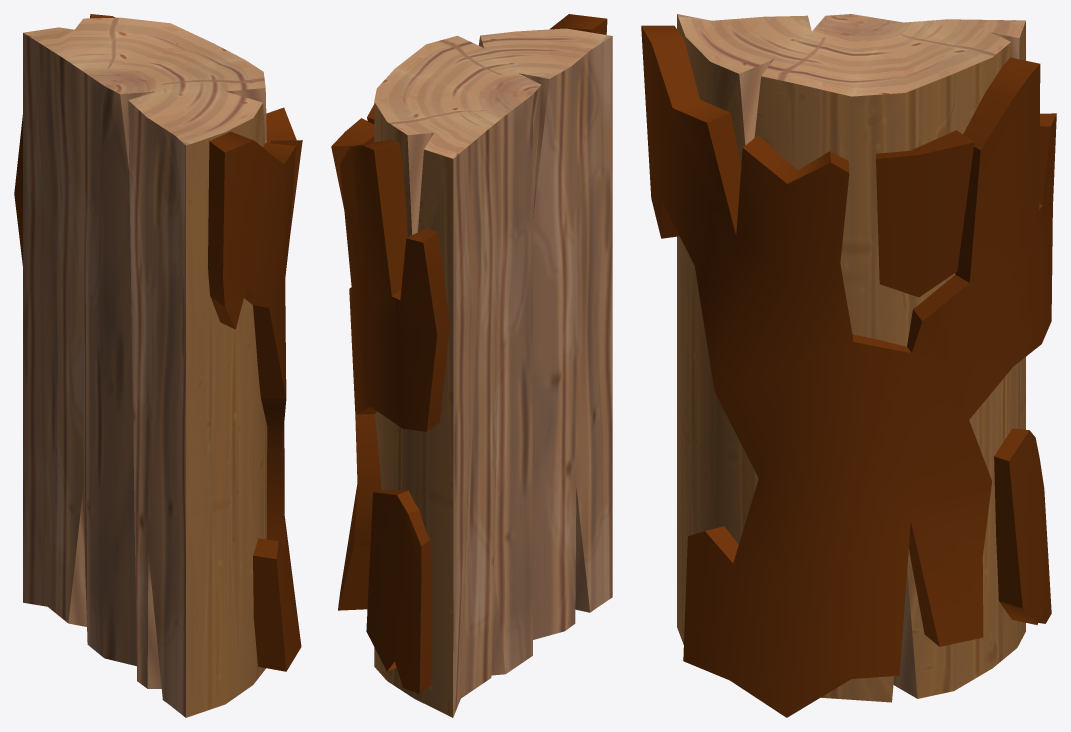
File: obj_harvest_log_l01.fbx
3 views of the same model, side by side, from view 1: azimuth 30°, elevation 25°; view 2: azimuth 150°, elevation 25°; view 3: azimuth 270°, elevation 25° (orthographic). The views are drawn at different scales.
Visible parts, largest first — view 1: obj_harvest_log_l01; view 2: obj_harvest_log_l01; view 3: obj_harvest_log_l01.
Boxes of the visible parts, <box> form: obj_harvest_log_l01: <box>14,14,302,717</box>; obj_harvest_log_l01: <box>331,14,612,717</box>; obj_harvest_log_l01: <box>641,14,1056,717</box>.
Size of the model in its own units: 2.52 by 8 by 4.88.
